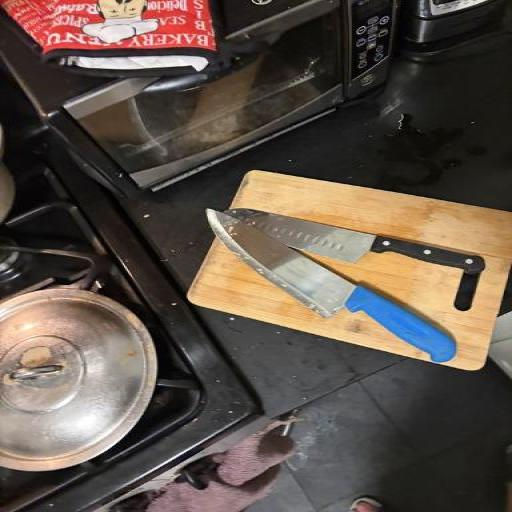knife: (188, 204, 463, 381), (227, 204, 494, 306)
